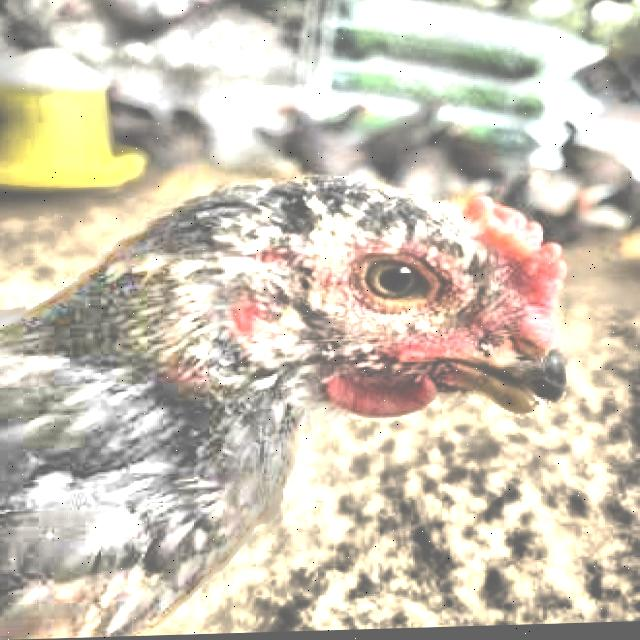Healthy: (336, 255, 462, 338)
